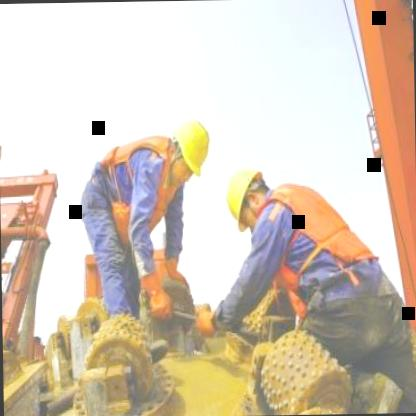helmet: (222, 160, 277, 232), (161, 110, 217, 180)
